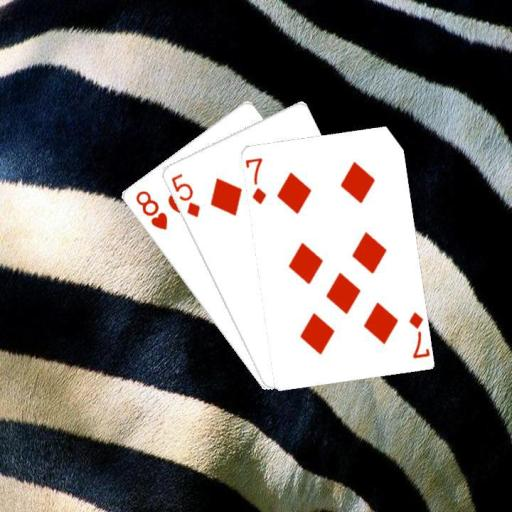5D: (167, 170, 201, 219)
7D: (244, 155, 267, 206), (405, 309, 428, 360)
8H: (132, 187, 169, 232)
